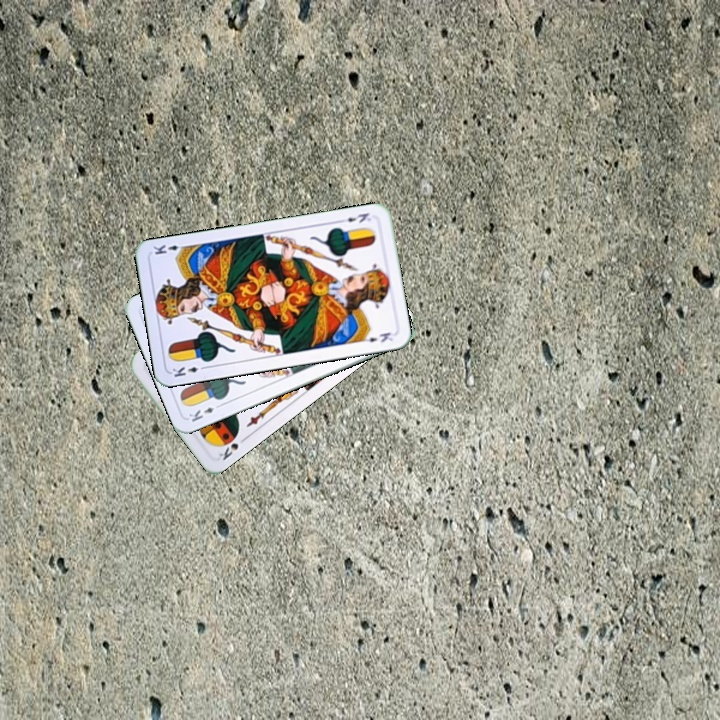EK: (184, 400, 224, 424), (168, 362, 209, 380), (336, 209, 374, 226)
SK: (215, 433, 250, 463)
